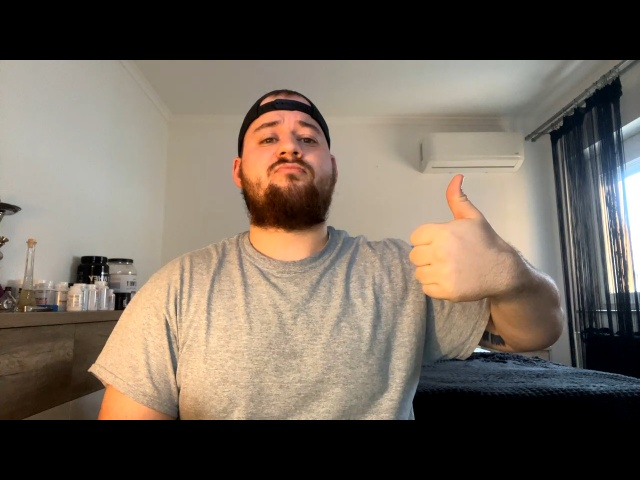ThumbsUp: (408, 174, 530, 302)
